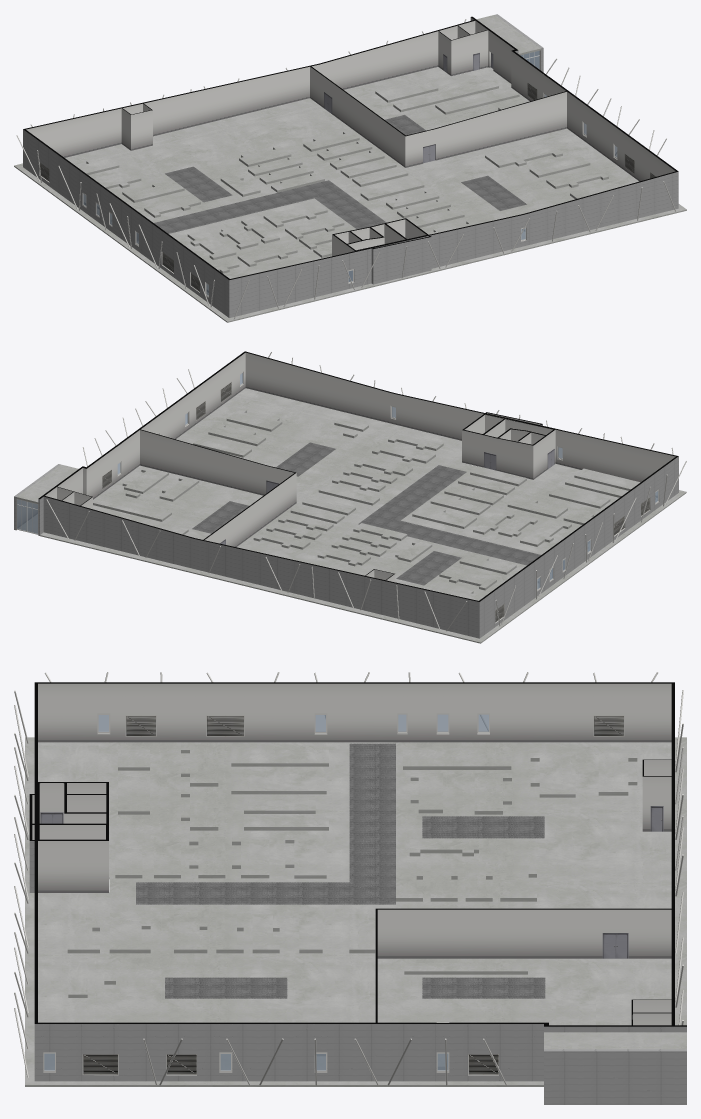
3 views of the same model, one above another, from view 1: azimuth 30°, elevation 25°; view 2: azimuth 150°, elevation 25°; view 3: azimuth 270°, elevation 25° (orthographic). The views are drawn at different scales.
Visible parts, largest first — view 1: Polyline, Box1894, Polyline (1), Rectangle2413, Line1591, Box1900, Box2029, Rectangle1155; view 2: Polyline, Box1894, Polyline (1), Rectangle2413, Line1591, Rectangle1155, Box1900, Box2029, Box2024; view 3: Polyline, Box1894, Polyline (1), Rectangle2413, Line1591, Box2029, Box1900, Rectangle1155, Box2024.
Part boxes in pixels (x1,y1,x2,y2): Polyline: (23, 14, 678, 317); Box1894: (14, 67, 686, 322); Polyline (1): (76, 79, 621, 292); Rectangle2413: (137, 115, 526, 240); Line1591: (16, 19, 675, 319); Box1900: (476, 15, 540, 55); Box2029: (40, 82, 656, 291); Rectangle1155: (82, 51, 617, 297); Polyline: (14, 351, 678, 638); Box1894: (18, 388, 686, 643); Polyline (1): (93, 409, 657, 600); Rectangle2413: (192, 442, 563, 585); Line1591: (46, 351, 686, 631); Rectangle1155: (16, 372, 658, 591); Box1900: (16, 464, 78, 503); Box2029: (102, 382, 649, 622); Box2024: (220, 449, 554, 544); Polyline: (29, 682, 686, 1104); Box1894: (25, 737, 686, 1086); Polyline (1): (38, 743, 637, 1069); Rectangle2413: (136, 743, 545, 998); Line1591: (14, 672, 683, 1085); Box2029: (82, 715, 624, 1074); Box1900: (544, 1032, 686, 1049); Rectangle1155: (43, 713, 489, 1072); Box2024: (40, 812, 628, 958).
Bounding box in the file's own units: 68.24 × 5.34 × 52.28.
10 materials, 7 textured.
